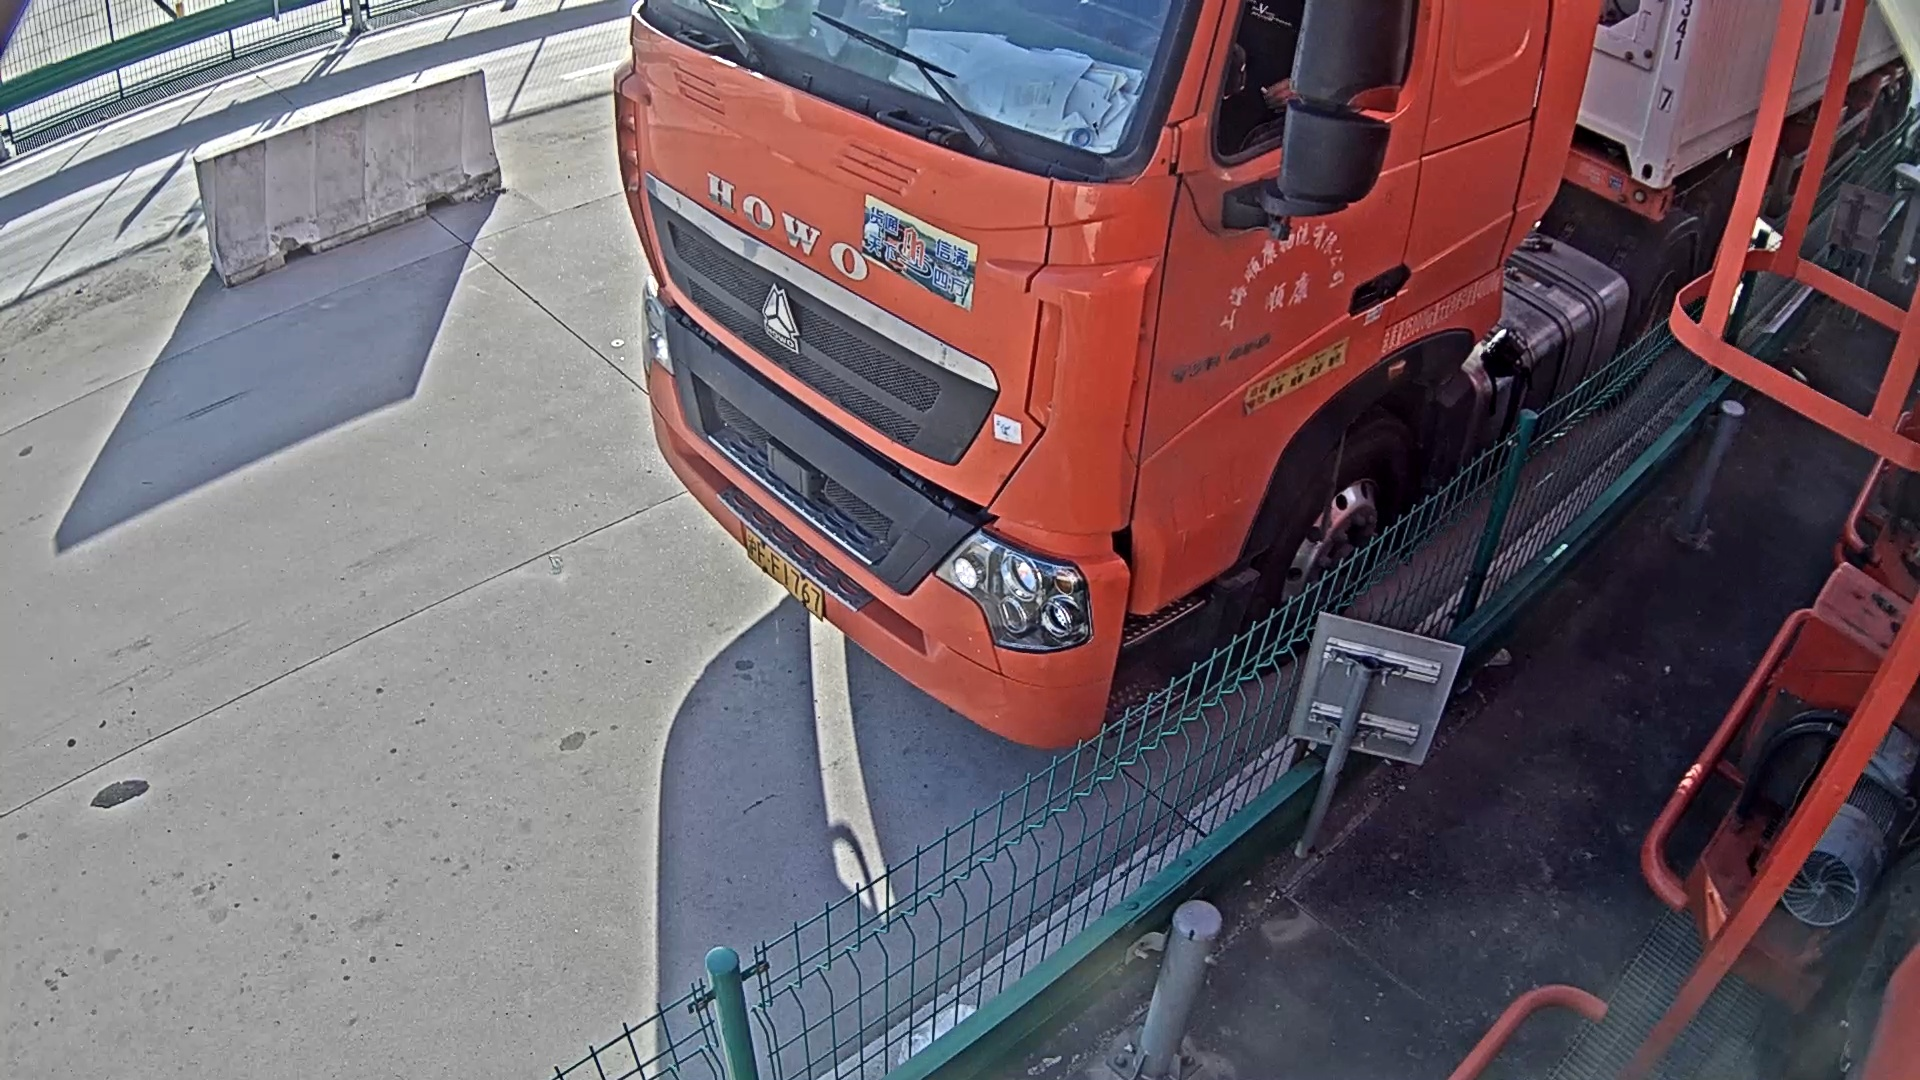head: (608, 1, 1597, 752)
plate: (739, 522, 826, 622)
